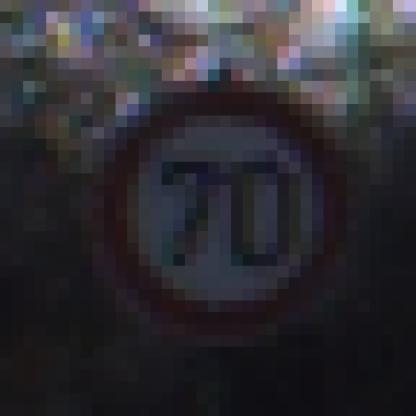Speed Limit 70: (112, 87, 336, 328)
